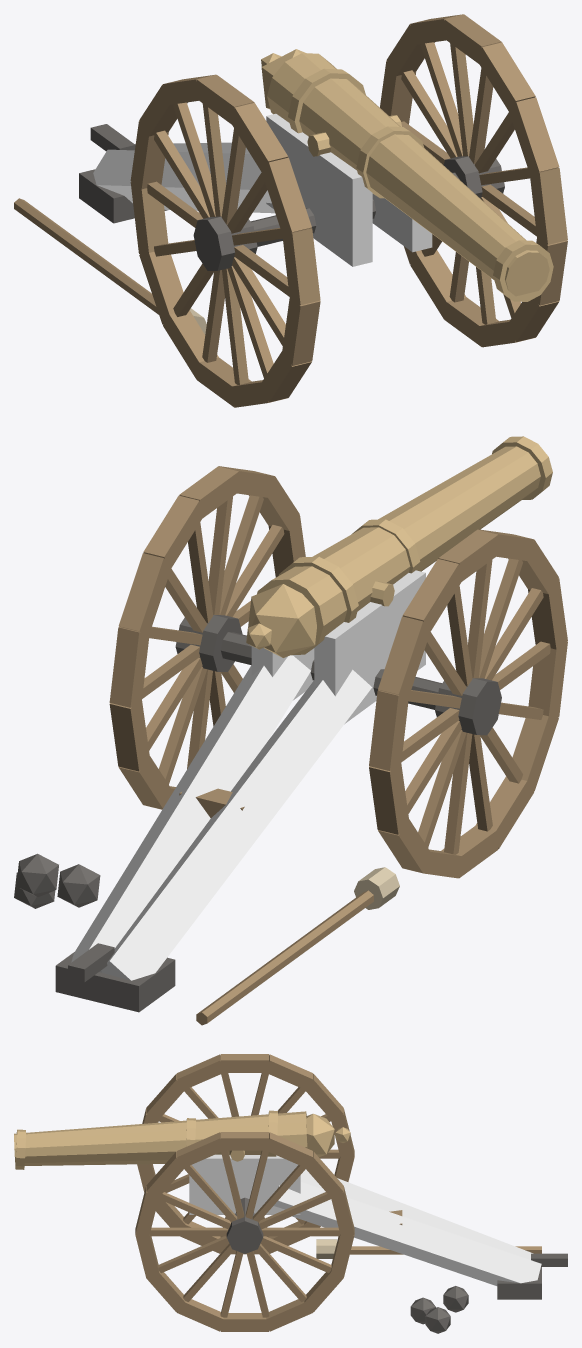
The model's file is civ_unit_cannon.glb.
3 renders of one model, top to bottom at view 1: azimuth 30°, elevation 25°; view 2: azimuth 150°, elevation 25°; view 3: azimuth 270°, elevation 25°, orthographic. The views are drawn at different scales.
Visible parts, largest first — view 1: civ_unit_cannon; view 2: civ_unit_cannon; view 3: civ_unit_cannon.
Part boxes in pixels (x1,y1,x2,y2): civ_unit_cannon: [14, 14, 567, 407]; civ_unit_cannon: [14, 436, 567, 1025]; civ_unit_cannon: [14, 1054, 567, 1333].
Size of the model in its own units: 1.5 by 1.46 by 3.73.
